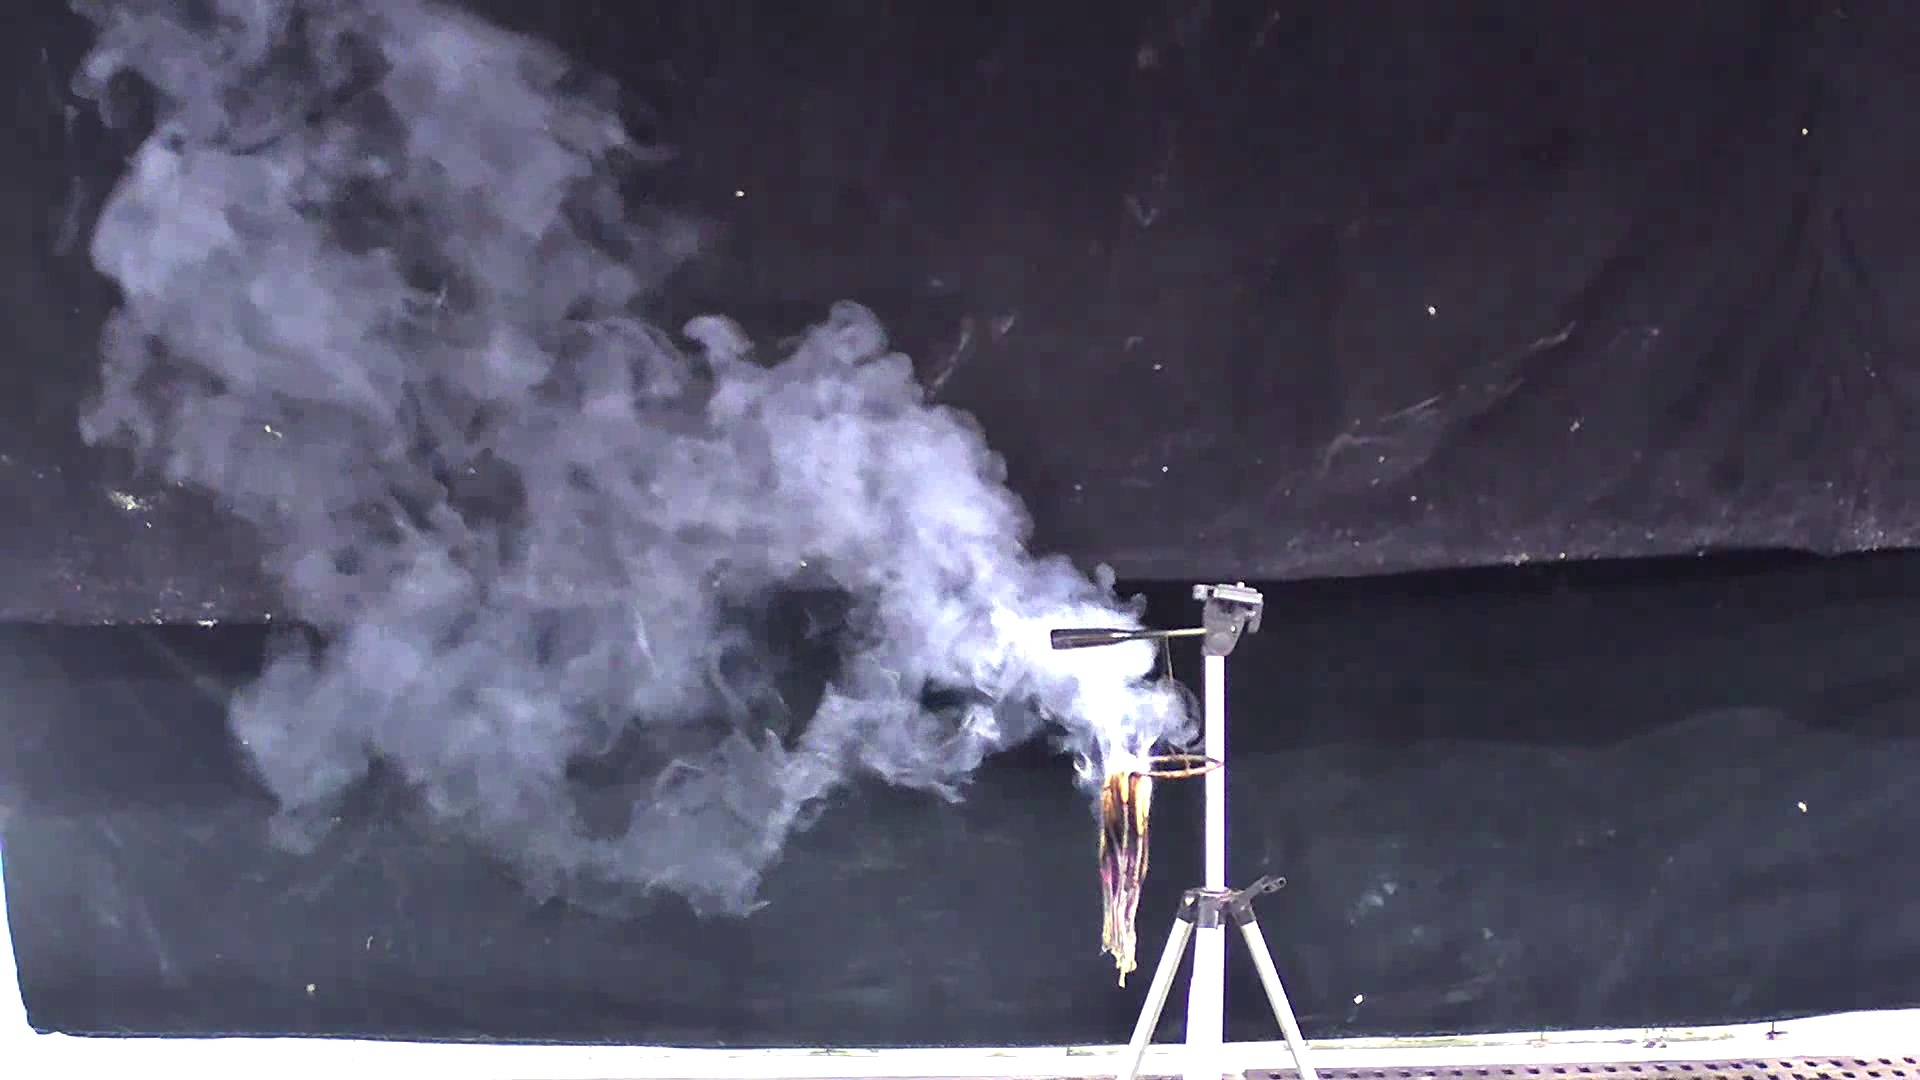smoke: (79, 7, 1208, 916)
